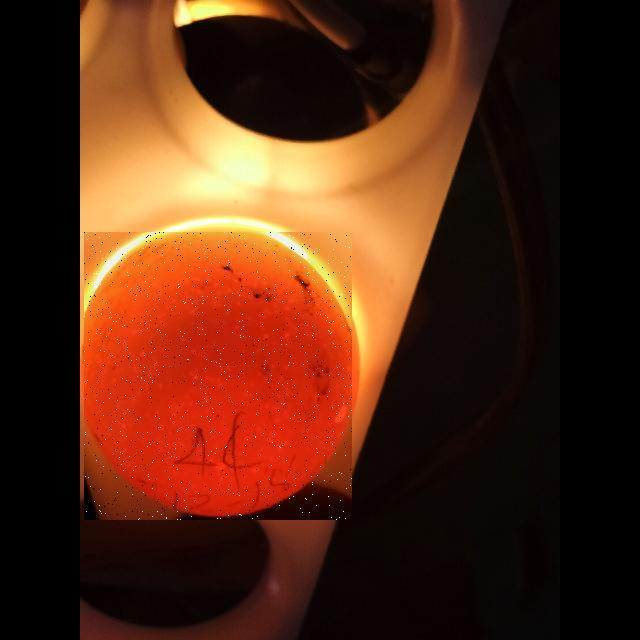Infertile: (84, 232, 352, 520)
